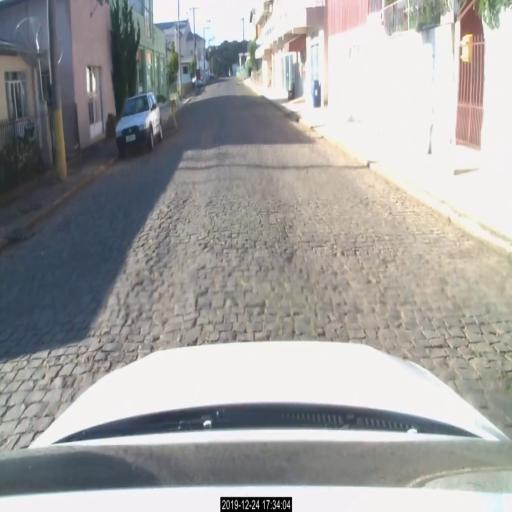Pothole: (120, 220, 200, 332)
